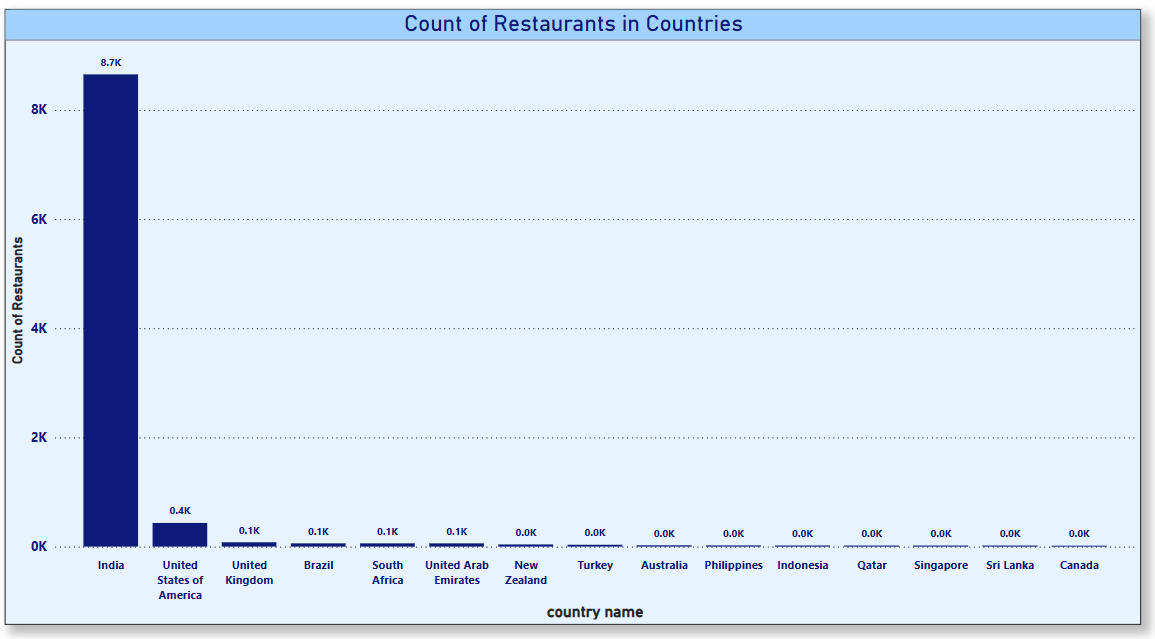

The page's visual inventory and layout, read from the dashboard file:
{"tool":"powerbi","page":{"name":"Restos","canvas":[1280,720],"ordinal":3},"visuals":[{"type":"columnChart","title":"Count of Restaurants in Countries","fields":{"Category":["Sheet2.country name"],"Y":["CountNonNull(Sheet1.RestaurantID)"]},"box":[9.8,20.8,1211.8,656.7],"z":0}]}

Visuals, with their boxes in screenshot pixels (x1, y1, x2, y2), scaled from the page's 1280x720 canvas onto the 1155x639 screenshot:
"Count of Restaurants in Countries" columnChart: <box>9,18,1102,601</box>
